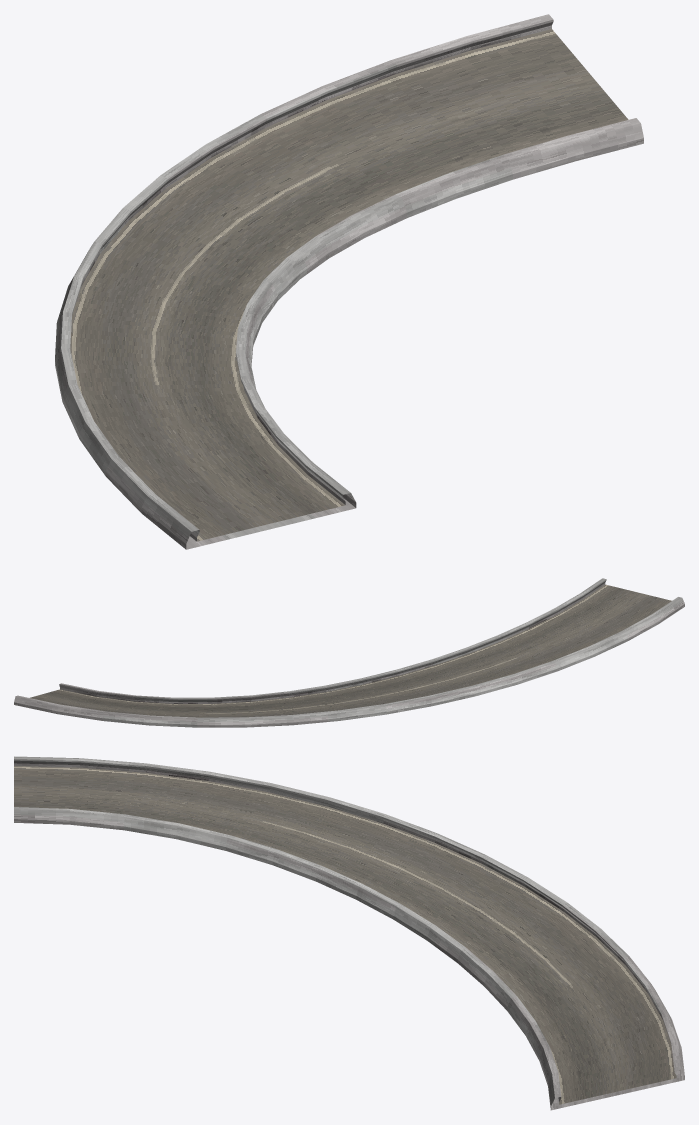
File: turn-right5x5.glb
3 views of the same model, one above another, from view 1: azimuth 30°, elevation 25°; view 2: azimuth 150°, elevation 25°; view 3: azimuth 270°, elevation 25° (orthographic). The views are drawn at different scales.
Visible parts, largest first — view 1: road-Turn-Flat-HalfBankedRight-Down2-Right-Size5; view 2: road-Turn-Flat-HalfBankedRight-Down2-Right-Size5; view 3: road-Turn-Flat-HalfBankedRight-Down2-Right-Size5.
Boxes of the visible parts, x1,y1,x2,y2 form: road-Turn-Flat-HalfBankedRight-Down2-Right-Size5: (55, 14, 643, 549); road-Turn-Flat-HalfBankedRight-Down2-Right-Size5: (14, 578, 684, 727); road-Turn-Flat-HalfBankedRight-Down2-Right-Size5: (14, 756, 684, 1110).
Bounding box in the file's own units: 5 × 0.5938 × 5.
2 materials, 2 textured.
